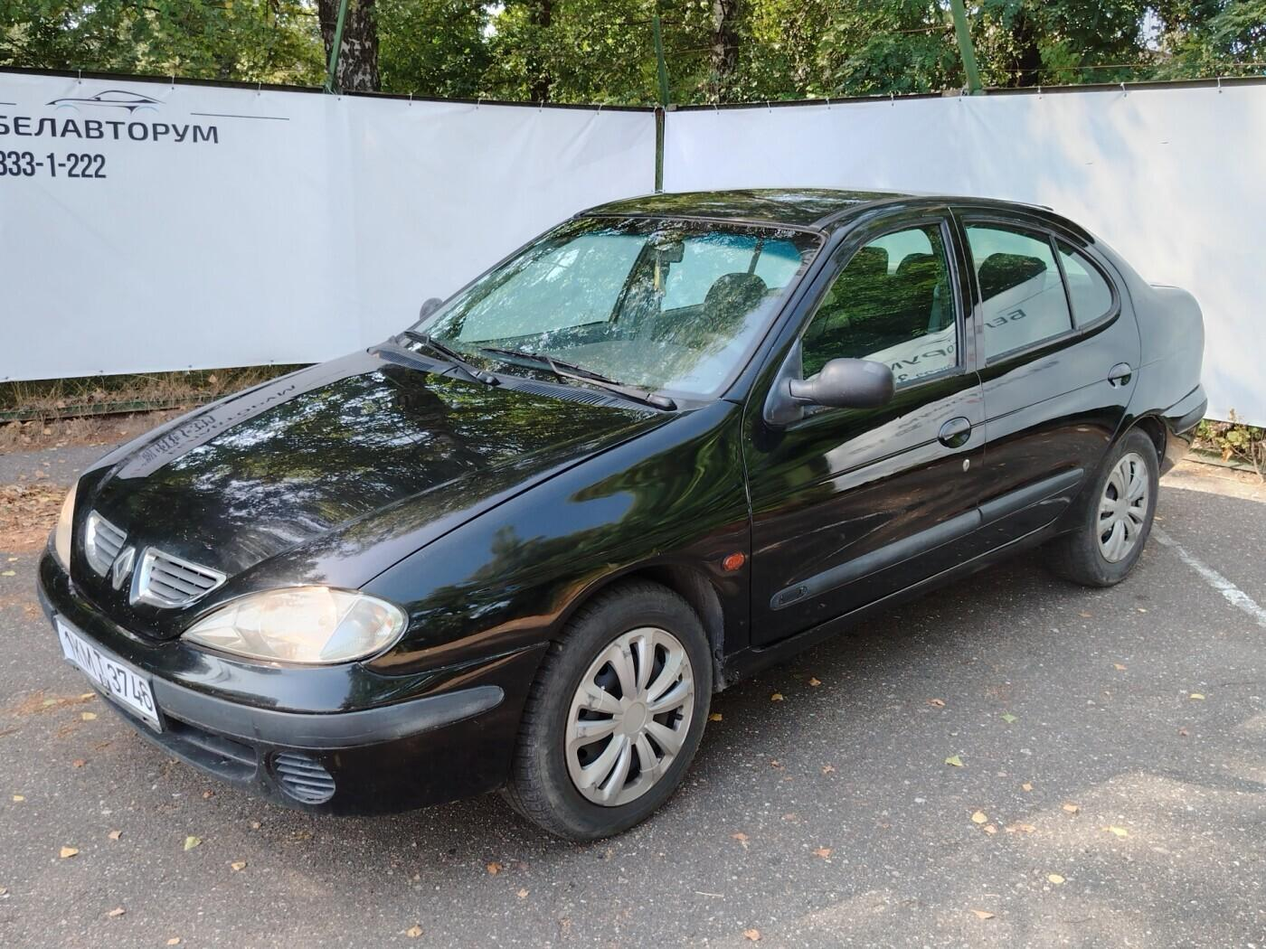Megane_1999-2003: (30, 179, 1210, 846)
